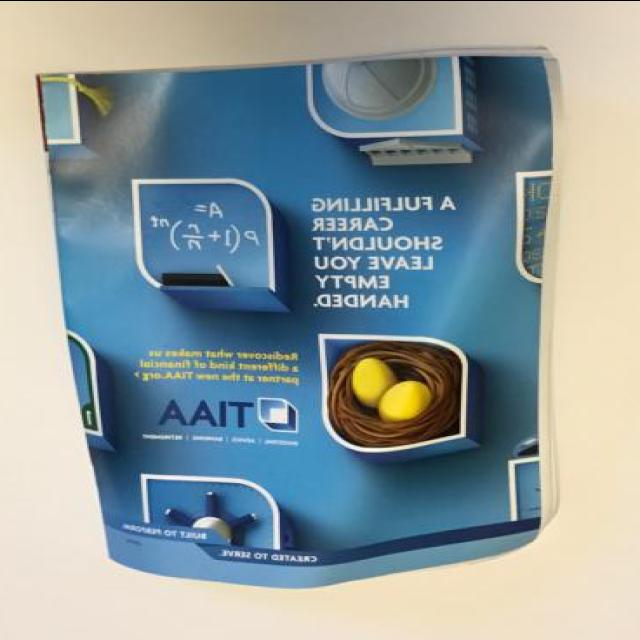kertas: (37, 46, 566, 589)
